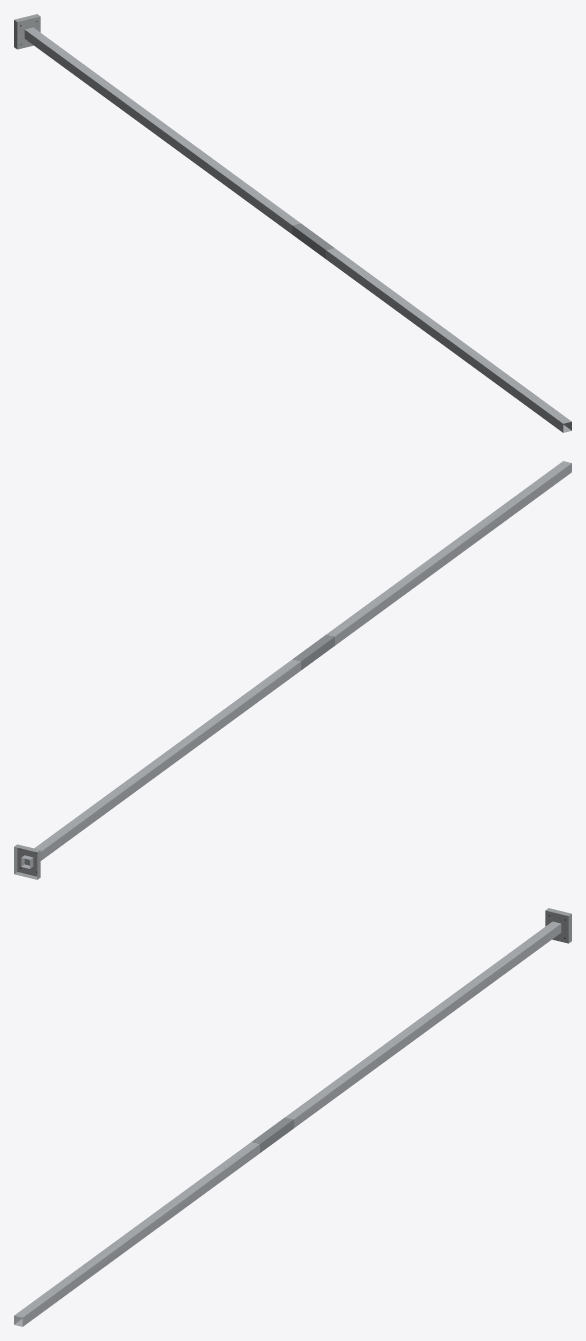
Rendered from opener_rail_10.obj.
3 views of the same model, one above another, from view 1: azimuth 30°, elevation 25°; view 2: azimuth 150°, elevation 25°; view 3: azimuth 330°, elevation 25° (orthographic).
Visible parts, largest first — view 1: rail; view 2: rail; view 3: rail.
Boxes of the visible parts, left/top/right/bottom form: rail: left=14, top=14, right=571, bottom=432; rail: left=14, top=461, right=571, bottom=879; rail: left=14, top=908, right=571, bottom=1326.
Bounding box in the file's own units: 0.25 × 0.2812 × 10.06.
